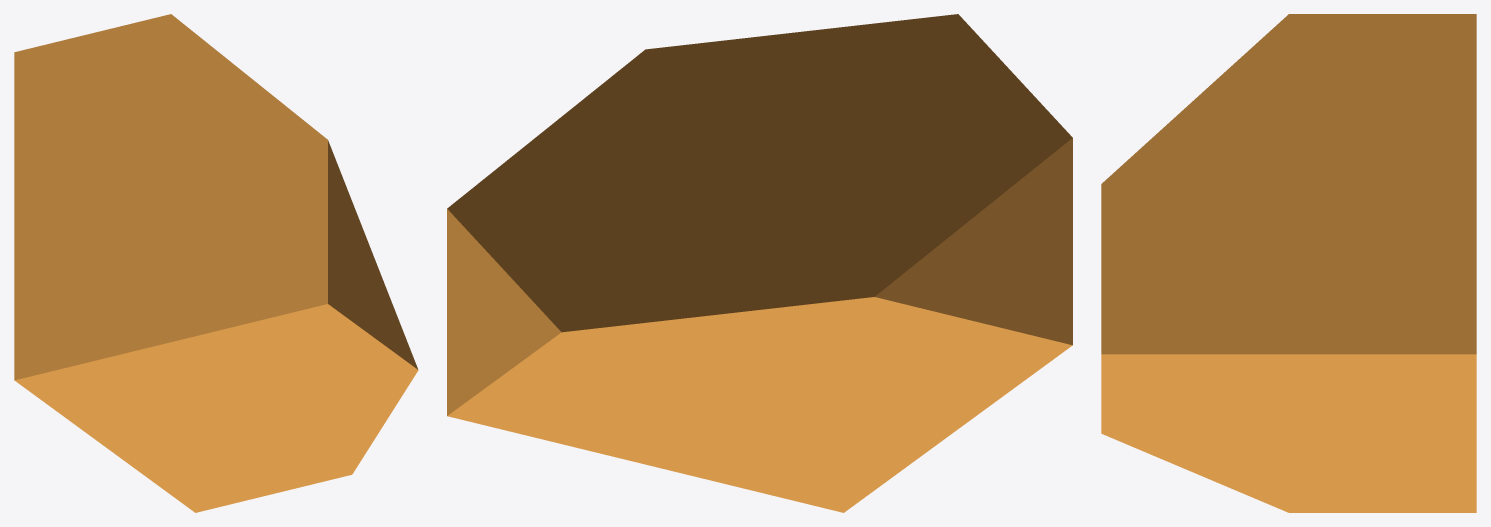
File: r5c7_border_orange.gltf
The picture shows the model from 3 angles, left to right: view 1: azimuth 30°, elevation 25°; view 2: azimuth 150°, elevation 25°; view 3: azimuth 270°, elevation 25°; orthographic projection. The views are drawn at different scales.
Parts seen in each view (by area): view 1: r5c7_border_orange; view 2: r5c7_border_orange; view 3: r5c7_border_orange.
Boxes of the visible parts, x1,y1,x2,y2 form: r5c7_border_orange: (14,14,418,512); r5c7_border_orange: (447,14,1072,512); r5c7_border_orange: (1101,14,1476,512).
Bounding box in the file's own units: 2.1 × 2.1 × 2.1.
1 material, 1 textured.
